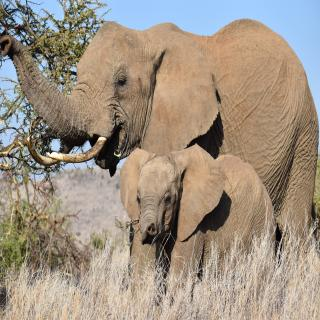Elephant: (0, 15, 320, 274), (119, 144, 281, 307)
